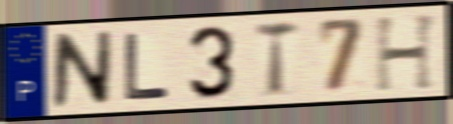3: (185, 22, 241, 103)
7: (315, 15, 371, 97)
H: (373, 11, 442, 94)
L: (122, 30, 173, 103)
N: (50, 29, 115, 110)
T: (253, 18, 301, 100)
